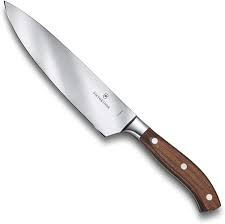knife: (1, 1, 222, 214)
